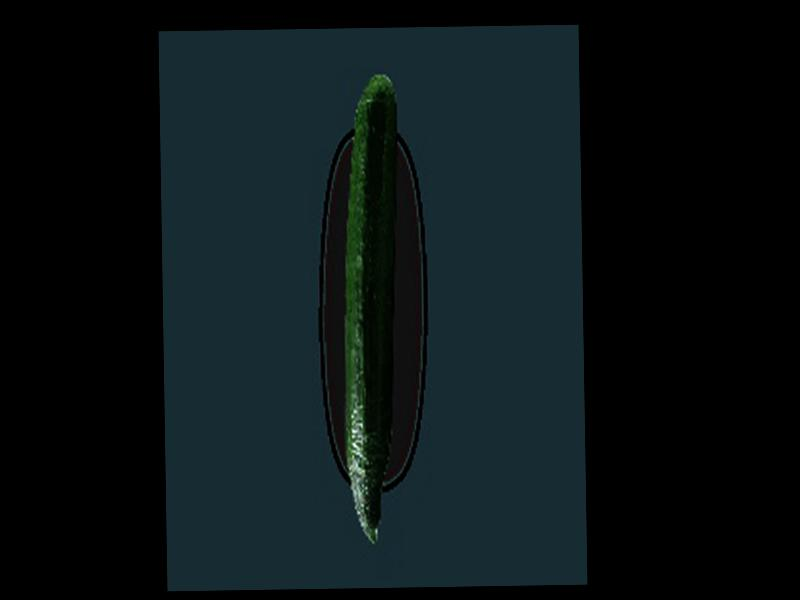Cucumber: (340, 72, 405, 544)
